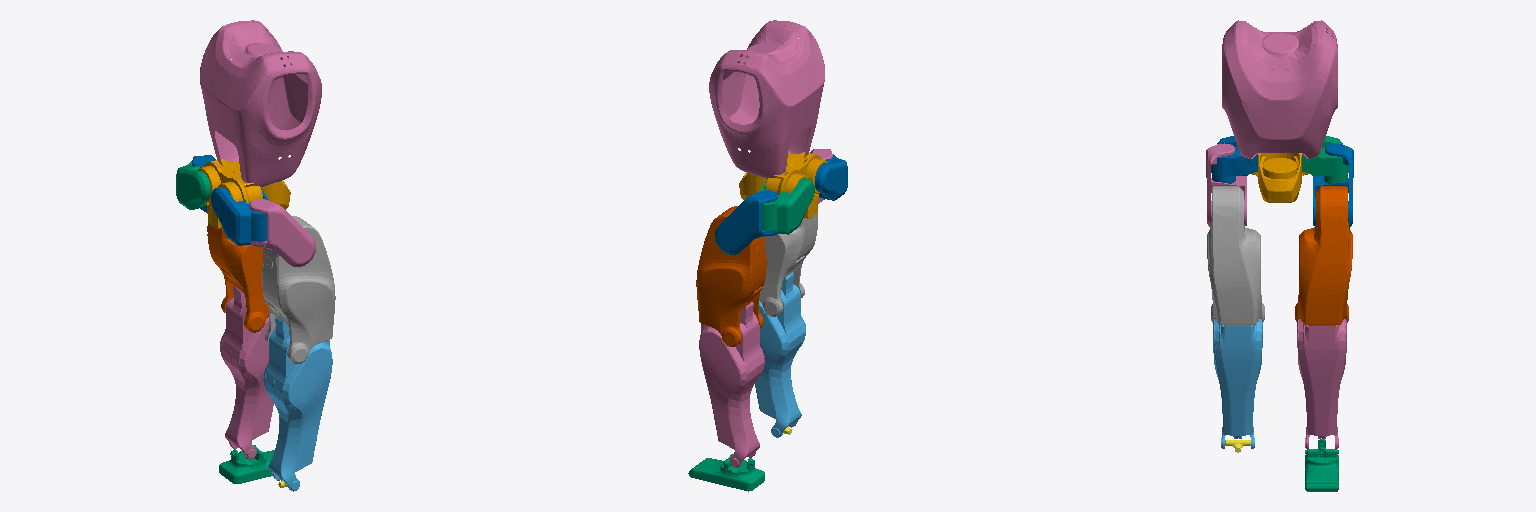
--- Facts derived from the render (not from the file) ---
The picture shows the robot from 3 angles, left to right: view 1: azimuth 30°, elevation 25°; view 2: azimuth 150°, elevation 25°; view 3: azimuth 270°, elevation 25°; orthographic projection.
Model Alexander with 24 links and 23 joints (13 revolute, 10 fixed), rooted at PELVIS_LINK, posed all joints at 0.
Links seen in each view (by area): view 1: TORSO_LINK, RIGHT_SHIN, RIGHT_THIGH, LEFT_SHIN, LEFT_THIGH, RIGHT_HIP_Z_LINK, PELVIS_LINK, RIGHT_HIP_X_LINK, LEFT_FOOT, LEFT_HIP_X_LINK; view 2: TORSO_LINK, LEFT_SHIN, LEFT_THIGH, RIGHT_SHIN, RIGHT_THIGH, LEFT_HIP_Z_LINK, PELVIS_LINK, LEFT_HIP_X_LINK, LEFT_FOOT, RIGHT_HIP_X_LINK; view 3: TORSO_LINK, LEFT_THIGH, RIGHT_THIGH, LEFT_SHIN, RIGHT_SHIN, PELVIS_LINK, LEFT_FOOT, LEFT_HIP_X_LINK, RIGHT_HIP_X_LINK, LEFT_HIP_Z_LINK, RIGHT_HIP_Z_LINK.
Link boxes in pixels (<box>): TORSO_LINK: <box>200,20,321,186</box>; RIGHT_SHIN: <box>263,317,332,491</box>; RIGHT_THIGH: <box>261,216,335,363</box>; LEFT_SHIN: <box>220,285,273,459</box>; LEFT_THIGH: <box>207,223,268,332</box>; RIGHT_HIP_Z_LINK: <box>250,199,315,266</box>; PELVIS_LINK: <box>198,159,290,229</box>; RIGHT_HIP_X_LINK: <box>211,187,269,245</box>; LEFT_FOOT: <box>219,445,274,483</box>; LEFT_HIP_X_LINK: <box>176,161,210,209</box>; TORSO_LINK: <box>709,20,824,178</box>; LEFT_SHIN: <box>699,302,764,467</box>; LEFT_THIGH: <box>696,206,766,346</box>; RIGHT_SHIN: <box>755,272,805,437</box>; RIGHT_THIGH: <box>759,213,817,316</box>; LEFT_HIP_Z_LINK: <box>715,190,777,254</box>; PELVIS_LINK: <box>739,152,827,218</box>; LEFT_HIP_X_LINK: <box>759,178,814,234</box>; LEFT_FOOT: <box>688,454,764,491</box>; RIGHT_HIP_X_LINK: <box>815,154,847,200</box>; TORSO_LINK: <box>1222,20,1337,158</box>; LEFT_THIGH: <box>1295,186,1352,325</box>; RIGHT_THIGH: <box>1207,186,1264,325</box>; LEFT_SHIN: <box>1297,319,1346,448</box>; RIGHT_SHIN: <box>1213,319,1262,448</box>; PELVIS_LINK: <box>1238,148,1321,202</box>; LEFT_FOOT: <box>1305,439,1338,491</box>; LEFT_HIP_X_LINK: <box>1302,136,1348,183</box>; RIGHT_HIP_X_LINK: <box>1211,136,1257,183</box>; LEFT_HIP_Z_LINK: <box>1313,143,1353,228</box>; RIGHT_HIP_Z_LINK: <box>1206,143,1246,228</box>.
Bounding box of the posed robot: 0.3464 × 0.4229 × 1.39 m (x, y, z).
Meshes: 14 distinct files referenced, 12 mesh visuals loaded (12 OBJ); not drawn: 2 (reference not matched to a file when rendering).

URDF robot description (Alexander):
<?xml version = "1.0" ?>
<robot name="Alexander">

    <!-- LEFT LEG JOINTS -->
    <joint name="LEFT_HIP_X" type="revolute">
        <origin rpy="0 0 0" xyz="-0.162	0.0595	-0.015"/>
        <axis xyz="1 0 0"/>
        <parent link="PELVIS_LINK"/>
        <child link="LEFT_HIP_X_LINK"/>
        <limit effort="150" lower="-0.3490658504" upper="0.872664626" velocity="9"/>
        <dynamics damping="0.05" friction="0.0"/>
    </joint>
    <joint name="LEFT_HIP_Z" type="revolute">
        <origin rpy="0 0 0" xyz="0.06	0.1	-0.08"/>
        <axis xyz="0 0 1"/>
        <parent link="LEFT_HIP_X_LINK"/>
        <child link="LEFT_HIP_Z_LINK"/>
        <limit effort="60" lower="-0.3490658504" upper="1.0472" velocity="11"/>
        <dynamics damping="0.05" friction="0.0"/>
    </joint>
    <joint name="LEFT_HIP_Y" type="revolute">
        <origin rpy="0 0 0" xyz="0.1045	-0.0573	-0.0525"/>
        <axis xyz="0 1 0"/>
        <parent link="LEFT_HIP_Z_LINK"/>
        <child link="LEFT_THIGH"/>
        <limit effort="200" lower="-2.61799" upper="0.785398" velocity="8"/>
        <dynamics damping="0.05" friction="0.0"/>
    </joint>
    <joint name="LEFT_KNEE_Y" type="revolute">
        <origin rpy="0 0 0" xyz="0	0.018	-0.32"/>
        <axis xyz="0 1 0"/>
        <parent link="LEFT_THIGH"/>
        <child link="LEFT_SHIN"/>
        <limit effort="200" lower="0" upper="2.445206282" velocity="8"/>
        <dynamics damping="0.05" friction="0.0"/>
    </joint>
    <joint name="LEFT_ANKLE_Y" type="revolute">
        <origin rpy="0 0 0" xyz="0	0	-0.41"/>
        <axis xyz="0 1 0"/>
        <parent link="LEFT_SHIN"/>
        <child link="LEFT_ANKLE_Y_LINK"/>
        <limit effort="180" lower="-1.0472" upper="0.523599" velocity="8"/>
        <dynamics damping="0.05" friction="0.0"/>
    </joint>
    <joint name="LEFT_ANKLE_X" type="revolute">
        <origin rpy="0 0 0" xyz="0	0	-0.012"/>
        <axis xyz="1 0 0"/>
        <parent link="LEFT_ANKLE_Y_LINK"/>
        <child link="LEFT_FOOT"/>
        <limit effort="90" lower="-0.436332" upper="0.436332" velocity="8"/>
        <dynamics damping="0.05" friction="0.0"/>
    </joint>

    <!-- RIGHT LEG JOINTS -->
    <joint name="RIGHT_HIP_X" type="revolute">
        <origin rpy="0 0 0" xyz="-0.162	-0.0595	-0.015"/>
        <axis xyz="1 0 0"/>
        <parent link="PELVIS_LINK"/>
        <child link="RIGHT_HIP_X_LINK"/>
        <limit effort="150" lower="-0.872664626" upper="0.3490658504" velocity="9"/>
        <dynamics damping="0.05" friction="0.0"/>
    </joint>
    <joint name="RIGHT_HIP_Z" type="revolute">
        <origin rpy="0 0 0" xyz="0.06	-0.1	-0.08"/>
        <axis xyz="0 0 1"/>
        <parent link="RIGHT_HIP_X_LINK"/>
        <child link="RIGHT_HIP_Z_LINK"/>
        <limit effort="60" lower="-1.0472" upper="0.3490658504" velocity="11"/>
        <dynamics damping="0.05" friction="0.0"/>
    </joint>
    <joint name="RIGHT_HIP_Y" type="revolute">
        <origin rpy="0 0 0" xyz="0.1045	0.0573	-0.0525"/>
        <axis xyz="0 1 0"/>
        <parent link="RIGHT_HIP_Z_LINK"/>
        <child link="RIGHT_THIGH"/>
        <limit effort="200" lower="-2.61799" upper="0.785398" velocity="8"/>
        <dynamics damping="0.05" friction="0.0"/>
    </joint>
    <joint name="RIGHT_KNEE_Y" type="revolute">
        <origin rpy="0 0 0" xyz="0	-0.018	-0.32"/>
        <axis xyz="0 1 0"/>
        <parent link="RIGHT_THIGH"/>
        <child link="RIGHT_SHIN"/>
        <limit effort="200" lower="0" upper="2.445206282" velocity="8"/>
        <dynamics damping="0.05" friction="0.0"/>
    </joint>
    <joint name="RIGHT_ANKLE_Y" type="revolute">
        <origin rpy="0 0 0" xyz="0	0	-0.41"/>
        <axis xyz="0 1 0"/>
        <parent link="RIGHT_SHIN"/>
        <child link="RIGHT_ANKLE_Y_LINK"/>
        <limit effort="180" lower="-1.0472" upper="0.523599" velocity="8"/>
        <dynamics damping="0.05" friction="0.0"/>
    </joint>
    <joint name="RIGHT_ANKLE_X" type="revolute">
        <origin rpy="0 0 0" xyz="0	0	-0.012"/>
        <axis xyz="1 0 0"/>
        <parent link="RIGHT_ANKLE_Y_LINK"/>
        <child link="RIGHT_FOOT"/>
        <limit effort="90" lower="-0.436332" upper="0.436332" velocity="8"/>
        <dynamics damping="0.05" friction="0.0"/>
    </joint>

    <!-- SPINE JOINTS -->
    <joint name="SPINE_Z" type="revolute">
        <origin rpy="0 0 0" xyz="0.0 0 0.018"/> <!-- check with CAD -->
        <axis xyz="0 0 1"/>
        <parent link="PELVIS_LINK"/>
        <child link="TORSO_LINK"/>
        <limit effort="150" lower="-0.5235987756" upper="0.5235987756" velocity="9.0"/>
        <dynamics damping="0.05" friction="0.0"/>
    </joint>

    <!-- LINKS -->
    <link name="PELVIS_LINK">
        <inertial>
            <mass value="7.700"/> <!-- Mass is measured by Sean and Inertias are scaled by Beomyeong, June 9 -->
            <origin rpy="0 0 0" xyz="-0.08354287 0.00005291 -0.03484828"/>
            <inertia ixx="0.02778797216" ixy="0.000009328336657" ixz="0.0001291459988" iyy="0.04197223079" iyz="0.00003658393716" izz="0.04864293163"/>
        </inertial>
        <visual>
            <geometry>
                <mesh filename="package://alexander_V1_description/meshes/legs/pelvis.obj"/>
            </geometry>
            <origin rpy="0.0 0.0 0.0" xyz="0.0 0.0 0.0"/>
        </visual>
    </link>
    <!-- pelvis_stim_imu -->
    <joint name="PELVIS_STIM_IMU_JOINT" type="fixed">
        <parent link="PELVIS_LINK"/>
        <child link="PELVIS_STIM_IMU_LINK"/>
        <origin xyz="-0.08687724 0.01225028 -0.08051472" rpy="0.0 0.0 1.570796"/>
    </joint>

    <link name="PELVIS_STIM_IMU_LINK">
        <inertial>
            <mass value="0.0"/>
            <origin xyz="0 0 0" rpy="0 0 0"/>
            <inertia ixx="0.0" ixy="0.0" ixz="0.0" iyy="0.0" iyz="0.0" izz="0.0"/>
        </inertial>
    </link>

    <gazebo reference="PELVIS_STIM_IMU_LINK">
        <sensor name="pelvis_stim_imu" type="imu">
            <always_on>1</always_on>
            <update_rate>1000.0</update_rate>
            <imu>
                <noise>
                    <type>gaussian</type>
                    <rate>
                        <mean>0.0</mean>
                        <stddev>2e-4</stddev>
                        <bias_mean>0.0000075</bias_mean>
                        <bias_stddev>0.0000008</bias_stddev>
                    </rate>
                    <accel>
                        <mean>0.0</mean>
                        <stddev>1.7e-2</stddev>
                        <bias_mean>0.1</bias_mean>
                        <bias_stddev>0.001</bias_stddev>
                    </accel>
                </noise>
            </imu>
        </sensor>
    </gazebo>
    <!-- end pelvis imu -->

    <!-- LEFT LEG LINKS -->
    <link name="LEFT_HIP_X_LINK">
        <inertial>
            <mass value="1.933"/> <!-- Mass is measured by Sean and Inertias are scaled by Beomyeong, June 9 -->
            <origin rpy="0 0 0" xyz="0.04350911	0.08708606 -0.03525761"/>
            <inertia ixx="0.003878412843" ixy="-0.0004864153567" ixz="0.000108888806" iyy="0.004286297831" iyz="0.0003994221282" izz="0.004589226755"/>
        </inertial>
        <visual>
            <geometry>
                <mesh filename="package://alexander_V1_description/meshes/legs/left_hip_roll.obj"/>
            </geometry>
            <origin rpy="0.0 0.0 0.0" xyz="0.0 0.0 0.0"/>
        </visual>
    </link>

    <!-- LeftHipRollIMU-->
	<link name="LEFT_HIP_X_IMU_LINK">
		<inertial>
			<mass value="0"/>
			<origin rpy="0 0 0" xyz="0 0 0"/>
			<inertia ixx="0.0" ixy="0.0" ixz="0.0" iyy="0.0" iyz="0.0" izz="0.0"/>
		</inertial>
	</link>
	<joint name="LEFT_HIP_X_IMU_JOINT" type="fixed">
		<origin rpy="-1.570796 0 1.570796" xyz="-0.01922309 0.10145013 -0.01488788"/>
		<axis xyz="0 0 1"/>
		<parent link="LEFT_HIP_X_LINK"/>
		<child link="LEFT_HIP_X_IMU_LINK"/>
	</joint>
	<gazebo reference="LEFT_HIP_X_IMU_LINK">
		<sensor name="left_hip_x_imu" type="imu">
			<always_on>true</always_on>
			<imu>
				<noise>
					<type>gaussian</type>
					<rate>
						<mean>0</mean>
						<stddev>0.0002</stddev>
						<bias_mean>7.5e-06</bias_mean>
						<bias_stddev>8e-07</bias_stddev>
					</rate>
					<accel>
						<mean>0</mean>
						<stddev>0.017</stddev>
						<bias_mean>0.1</bias_mean>
						<bias_stddev>0.001</bias_stddev>
					</accel>
				</noise>
			</imu>
		</sensor>
	</gazebo>


    <link name="LEFT_HIP_Z_LINK">
        <inertial>
            <mass value="0.777"/> <!-- Mass is measured by Sean and Inertias are scaled by Beomyeong, June 9 -->
            <origin rpy="0 0 0" xyz="0.04549595	-0.00525571	-0.00937454"/>
            <inertia ixx="0.003193596704" ixy="0.00005838456884" ixz="0.0008103460444" iyy="0.003470518726" iyz="0.0004769799088" izz="0.003149418679"/>
        </inertial>
        <visual>
            <geometry>
                <mesh filename="package://alexander_V1_description/meshes/legs/left_hip_yaw.obj"/>
            </geometry>
            <origin rpy="0.0 0.0 0.0" xyz="0 0 0"/>
        </visual>
    </link>
    <link name="LEFT_THIGH">
        <inertial>
            <mass value="8.200"/> <!-- Mass is measured by Sean and Inertias are scaled by Beomyeong, June 9 --> <!-- CAD Mass 6.31087157 (Hacked April 1 2025 to match IRL Scale of whole robot) -->
            <origin rpy="0 0 0" xyz="0.01417302	0.03268781	-0.10548314"/>
            <inertia ixx="0.09801939303" ixy="0.0004076934194" ixz="0.009696198452" iyy="0.1029817685" iyz="-0.004604273548" izz="0.02966682761"/>
        </inertial>
        <visual>
            <geometry>
                <mesh filename="package://alexander_V1_description/meshes/legs/left_thigh.obj"/>
            </geometry>
            <origin rpy="0.0 0.0 0.0" xyz="0 0 0"/>
        </visual>
    </link>
    <link name="LEFT_SHIN">
        <inertial>
            <mass value="7.400"/><!-- Mass is measured by Sean and Inertias are scaled by Beomyeong, June 9, CAD Mass 6.31087157 (Hacked April 1 2025 to match IRL Scale of whole robot) -->
            <origin rpy="0 0 0" xyz="0.03807965	-0.00108105	-0.12410027"/>
            <inertia ixx="0.1187114458" ixy="-0.0007360443636" ixz="-0.008531957818" iyy="0.123287552" iyz="0.00003651563636" izz="0.021118268"/>
        </inertial>
        <visual>
            <geometry>
                <mesh filename="package://alexander_V1_description/meshes/legs/left_shin.obj"/>
            </geometry>
            <origin rpy="0.0 0.0 0.0" xyz="0 0 0"/>
        </visual>
    </link>

    <!-- LeftThighIMU-->
	<link name="LEFT_THIGH_IMU_LINK">
		<inertial>
			<mass value="0"/>
			<origin rpy="0 0 0" xyz="0 0 0"/>
			<inertia ixx="0.0" ixy="0.0" ixz="0.0" iyy="0.0" iyz="0.0" izz="0.0"/>
		</inertial>
	</link>
	<joint name="LEFT_THIGH_IMU_JOINT" type="fixed">
		<origin rpy="1.6947717585 0 1.570796" xyz="0.10004 0.03746 -0.21194"/>
		<axis xyz="0 0 1"/>
		<parent link="LEFT_THIGH"/>
		<child link="LEFT_THIGH_IMU_LINK"/>
	</joint>
	<gazebo reference="LEFT_THIGH_IMU_LINK">
		<sensor name="left_thigh_imu" type="imu">
			<always_on>true</always_on>
			<imu>
				<noise>
					<type>gaussian</type>
					<rate>
						<mean>0</mean>
						<stddev>0.0002</stddev>
						<bias_mean>7.5e-06</bias_mean>
						<bias_stddev>8e-07</bias_stddev>
					</rate>
					<accel>
						<mean>0</mean>
						<stddev>0.017</stddev>
						<bias_mean>0.1</bias_mean>
						<bias_stddev>0.001</bias_stddev>
					</accel>
				</noise>
			</imu>
		</sensor>
	</gazebo>

    <!-- LeftShinIMU-->
	<link name="LEFT_SHIN_IMU_LINK">
		<inertial>
			<mass value="0"/>
			<origin rpy="0 0 0" xyz="0 0 0"/>
			<inertia ixx="0.0" ixy="0.0" ixz="0.0" iyy="0.0" iyz="0.0" izz="0.0"/>
		</inertial>
	</link>
	<joint name="LEFT_SHIN_IMU_JOINT" type="fixed">
		<origin rpy="1.403695170631842 0 -1.570796" xyz="0.05655120 0.00084826 -0.15664831"/>
		<axis xyz="0 0 1"/>
		<parent link="LEFT_SHIN"/>
		<child link="LEFT_SHIN_IMU_LINK"/>
	</joint>
	<gazebo reference="LEFT_SHIN_IMU_LINK">
		<sensor name="left_shin_imu" type="imu">
			<always_on>true</always_on>
			<imu>
				<noise>
					<type>gaussian</type>
					<rate>
						<mean>0</mean>
						<stddev>0.0002</stddev>
						<bias_mean>7.5e-06</bias_mean>
						<bias_stddev>8e-07</bias_stddev>
					</rate>
					<accel>
						<mean>0</mean>
						<stddev>0.017</stddev>
						<bias_mean>0.1</bias_mean>
						<bias_stddev>0.001</bias_stddev>
					</accel>
				</noise>
			</imu>
		</sensor>
	</gazebo>


    <link name="LEFT_ANKLE_Y_LINK">
        <inertial>
            <mass value="0.04972436486"/>
            <origin rpy="0 0 0" xyz="2.94E-07	2.22E-07	-0.00462997"/>
            <inertia ixx="0.00001707859874" ixy="2.09E-10" ixz="-1.24E-10" iyy="0.0000070364221" iyz="-1.99E-11" izz="0.00001824148082"/>
        </inertial>
        <visual>
            <geometry>
                <mesh filename="package://alexander_V1_description/meshes/legs/left_ankle.obj"/>
            </geometry>
            <origin rpy="0.0 0.0 0.0" xyz="0 0 0"/>
        </visual>
    </link>
    <link name="LEFT_FOOT">
        <inertial>
            <mass value="1.264275635"/> <!-- Mass is measured by Sean and Inertias are scaled by Beomyeong, June 9 -->
            <origin rpy="0 0 0" xyz="0.03793372	-0.00000219	-0.0443663"/>
            <inertia ixx="0.00129422863" ixy="0.00001041666409" ixz="0.0003571624786" iyy="0.003796967682" iyz="-0.00000679990371" izz="0.004004069097"/>
        </inertial>
        <visual>
            <geometry>
                <mesh filename="package://alexander_V1_description/meshes/legs/left_foot.obj"/>
            </geometry>
            <origin rpy="0.0 0.0 0.0" xyz="0 0 0"/>
        </visual>
    </link>

    <!-- LeftFootIMU-->
	<link name="LEFT_FOOT_IMU_LINK">
		<inertial>
			<mass value="0"/>
			<origin rpy="0 0 0" xyz="0 0 0"/>
			<inertia ixx="0.0" ixy="0.0" ixz="0.0" iyy="0.0" iyz="0.0" izz="0.0"/>
		</inertial>
	</link>
	<joint name="LEFT_FOOT_IMU_JOINT" type="fixed">
		<origin rpy="0 0 1.570796" xyz="-0.03575526 0.01180178 -0.04979705"/>
		<axis xyz="0 0 1"/>
		<parent link="LEFT_FOOT"/>
		<child link="LEFT_FOOT_IMU_LINK"/>
	</joint>
	<gazebo reference="LEFT_FOOT_IMU_LINK">
		<sensor name="left_foot_imu" type="imu">
			<always_on>true</always_on>
			<imu>
				<noise>
					<type>gaussian</type>
					<rate>
						<mean>0</mean>
						<stddev>0.0002</stddev>
						<bias_mean>7.5e-06</bias_mean>
						<bias_stddev>8e-07</bias_stddev>
					</rate>
					<accel>
						<mean>0</mean>
						<stddev>0.017</stddev>
						<bias_mean>0.1</bias_mean>
						<bias_stddev>0.001</bias_stddev>
					</accel>
				</noise>
			</imu>
		</sensor>
	</gazebo>


    <!-- RIGHT LEG LINKS -->
    <link name="RIGHT_HIP_X_LINK">
        <inertial>
            <mass value="1.933"/> <!-- Mass is measured by Sean and Inertias are scaled by Beomyeong, June 9 -->
            <origin rpy="0 0 0" xyz="0.04351957	-0.08688935	-0.03525357"/>
            <inertia ixx="0.003879453534" ixy="0.0005061469865" ixz="0.0001081756018" iyy="0.004284419245" iyz="-0.0003931176704" izz="0.004587390581"/>
        </inertial>
        <visual>
            <geometry>
                <mesh filename="package://alexander_V1_description/meshes/legs/right_hip_roll.obj"/>
            </geometry>
            <origin rpy="0.0 0.0 0.0" xyz="0.0 0.0 0.0"/>
        </visual>
    </link>

    <!-- RightHipRollIMU-->
	<link name="RIGHT_HIP_X_IMU_LINK">
		<inertial>
			<mass value="0"/>
			<origin rpy="0 0 0" xyz="0 0 0"/>
			<inertia ixx="0.0" ixy="0.0" ixz="0.0" iyy="0.0" iyz="0.0" izz="0.0"/>
		</inertial>
	</link>
	<joint name="RIGHT_HIP_ROLL_IMU_JOINT" type="fixed">
		<origin rpy="-1.570796 0 1.570796" xyz="-0.01922309 -0.07694987 -0.01488788"/>
		<axis xyz="0 0 1"/>
		<parent link="RIGHT_HIP_X_LINK"/>
		<child link="RIGHT_HIP_X_IMU_LINK"/>
	</joint>
	<gazebo reference="RIGHT_HIP_X_IMU_LINK">
		<sensor name="right_hip_x_imu" type="imu">
			<always_on>true</always_on>
			<imu>
				<noise>
					<type>gaussian</type>
					<rate>
						<mean>0</mean>
						<stddev>0.0002</stddev>
						<bias_mean>7.5e-06</bias_mean>
						<bias_stddev>8e-07</bias_stddev>
					</rate>
					<accel>
						<mean>0</mean>
						<stddev>0.017</stddev>
						<bias_mean>0.1</bias_mean>
						<bias_stddev>0.001</bias_stddev>
					</accel>
				</noise>
			</imu>
		</sensor>
	</gazebo>

    <link name="RIGHT_HIP_Z_LINK">
        <inertial>
            <mass value="0.777"/> <!-- Mass is measured by Sean and Inertias are scaled by Beomyeong, June 9 -->
            <origin rpy="0 0 0" xyz="0.04549274	0.00525784	-0.00937505"/>
            <inertia ixx="0.003193609391" ixy="-0.00005796252393" ixz="0.0008102386672" iyy="0.003470371645" iyz="-0.0004772331589" izz="0.003149209997"/>
        </inertial>
        <visual>
            <geometry>
                <mesh filename="package://alexander_V1_description/meshes/legs/right_hip_yaw.obj"/>
            </geometry>
            <origin rpy="0.0 0.0 0.0" xyz="0 0 0"/>
        </visual>
    </link>
    <link name="RIGHT_THIGH">
        <inertial>
            <mass value="8.200"/><!--  Mass is measured by Sean and Inertias are scaled by Beomyeong, June 9,  CAD Mass 6.31087157 (Hacked April 1 2025 to match IRL Scale of whole robot) -->
            <origin rpy="0 0 0" xyz="0.01411846	-0.03282392	-0.10542795"/>
            <inertia ixx="0.09811603665" ixy="-0.0002823868387" ixz="0.009748403355" iyy="0.1030417396" iyz="0.004470163871" izz="0.02964871355"/>
        </inertial>
        <visual>
            <geometry>
                <mesh filename="package://alexander_V1_description/meshes/legs/right_thigh.obj"/>
            </geometry>
            <origin rpy="0.0 0.0 0.0" xyz="0 0 0"/>
        </visual>
    </link>

    <!-- RightThighIMU-->
	<link name="RIGHT_THIGH_IMU_LINK">
		<inertial>
			<mass value="0"/>
			<origin rpy="0 0 0" xyz="0 0 0"/>
			<inertia ixx="0.0" ixy="0.0" ixz="0.0" iyy="0.0" iyz="0.0" izz="0.0"/>
		</inertial>
	</link>
	<joint name="RIGHT_THIGH_IMU_JOINT" type="fixed">
		<origin rpy="1.6947717585 0 1.570796" xyz="0.10003618 -0.033541826 -0.21194191"/>
		<axis xyz="0 0 1"/>
		<parent link="RIGHT_THIGH"/>
		<child link="RIGHT_THIGH_IMU_LINK"/>
	</joint>
	<gazebo reference="RIGHT_THIGH_IMU_LINK">
		<sensor name="right_thigh_imu" type="imu">
			<always_on>true</always_on>
			<imu>
				<noise>
					<type>gaussian</type>
					<rate>
						<mean>0</mean>
						<stddev>0.0002</stddev>
						<bias_mean>7.5e-06</bias_mean>
						<bias_stddev>8e-07</bias_stddev>
					</rate>
					<accel>
						<mean>0</mean>
						<stddev>0.017</stddev>
						<bias_mean>0.1</bias_mean>
						<bias_stddev>0.001</bias_stddev>
					</accel>
				</noise>
			</imu>
		</sensor>
	</gazebo>

    <link name="RIGHT_SHIN">
        <inertial>
            <mass value="7.400"/> <!-- Mass is measured by Sean and Inertias are scaled by Beomyeong, June 9 --><!-- CAD Mass 6.31087157 (Hacked April 1 2025 to match IRL Scale of whole robot) -->
            <origin rpy="0 0 0" xyz="0.03807648	0.00113375	-0.12408765"/>
            <inertia ixx="0.1171311422" ixy="0.000770636" ixz="-0.009077162909" iyy="0.1214017091" iyz="0.0003811941818" izz="0.02090879418"/>
        </inertial>
        <visual>
            <geometry>
                <mesh filename="package://alexander_V1_description/meshes/legs/right_shin.obj"/>
            </geometry>
            <origin rpy="0.0 0.0 0.0" xyz="0 0 0"/>
        </visual>
    </link>

    <!-- RightShinIMU-->
	<link name="RIGHT_SHIN_IMU_LINK">
		<inertial>
			<mass value="0"/>
			<origin rpy="0 0 0" xyz="0 0 0"/>
			<inertia ixx="0.0" ixy="0.0" ixz="0.0" iyy="0.0" iyz="0.0" izz="0.0"/>
		</inertial>
	</link>
	<joint name="RIGHT_SHIN_IMU_JOINT" type="fixed">
		<origin rpy="1.403695170631842 0 -1.570796" xyz="0.05673025 -0.00875818 -0.15674961"/>
		<axis xyz="0 0 1"/>
		<parent link="RIGHT_SHIN"/>
		<child link="RIGHT_SHIN_IMU_LINK"/>
	</joint>
	<gazebo reference="RIGHT_SHIN_IMU_LINK">
		<sensor name="right_shin_imu" type="imu">
			<always_on>true</always_on>
			<imu>
				<noise>
					<type>gaussian</type>
					<rate>
						<mean>0</mean>
						<stddev>0.0002</stddev>
						<bias_mean>7.5e-06</bias_mean>
						<bias_stddev>8e-07</bias_stddev>
					</rate>
					<accel>
						<mean>0</mean>
						<stddev>0.017</stddev>
						<bias_mean>0.1</bias_mean>
						<bias_stddev>0.001</bias_stddev>
					</accel>
				</noise>
			</imu>
		</sensor>
	</gazebo>


    <link name="RIGHT_ANKLE_Y_LINK">
        <inertial>
            <mass value="0.04972436486"/> 
            <origin rpy="0 0 0" xyz="2.94E-07	2.22E-07	-0.00462997"/>
            <inertia ixx="0.00001707859874" ixy="2.09E-10" ixz="-1.24E-10" iyy="0.0000070364221" iyz="-1.99E-11" izz="0.00001824148082"/>
        </inertial>
        <visual>
            <geometry>
                <mesh filename="package://alexander_V1_description/meshes/legs/right_ankle.obj"/>
            </geometry>
            <origin rpy="0.0 0.0 0.0" xyz="0 0 0"/>
        </visual>
    </link>
    <link name="RIGHT_FOOT">
        <inertial>
            <mass value="1.264275635"/> <!-- Mass is measured by Sean and Inertias are scaled by Beomyeong, June 9 -->
            <origin rpy="0 0 0" xyz="0.03793372	-0.00000219	-0.0443663"/>
            <inertia ixx="0.00129422863" ixy="0.00001041666409" ixz="0.0003571624786" iyy="0.003796967682" iyz="-0.00000679990371" izz="0.004004069097"/>
        </inertial>
        <visual>
            <geometry>
                <mesh filename="package://alexander_V1_description/meshes/legs/right_foot.obj"/>
            </geometry>
            <origin rpy="0.0 0.0 0.0" xyz="0 0 0"/>
        </visual>
    </link>

    <!-- RightFootIMU-->
	<link name="RIGHT_FOOT_IMU_LINK">
		<inertial>
			<mass value="0"/>
			<origin rpy="0 0 0" xyz="0 0 0"/>
			<inertia ixx="0.0" ixy="0.0" ixz="0.0" iyy="0.0" iyz="0.0" izz="0.0"/>
		</inertial>
	</link>
	<joint name="RIGHT_FOOT_IMU_JOINT" type="fixed">
		<origin rpy="0 0 1.570796" xyz="-0.03575526 0.01180178 -0.04979705"/>
		<axis xyz="0 0 1"/>
		<parent link="RIGHT_FOOT"/>
		<child link="RIGHT_FOOT_IMU_LINK"/>
	</joint>
	<gazebo reference="RIGHT_FOOT_IMU_LINK">
		<sensor name="right_foot_imu" type="imu">
			<always_on>true</always_on>
			<imu>
				<noise>
					<type>gaussian</type>
					<rate>
						<mean>0</mean>
						<stddev>0.0002</stddev>
						<bias_mean>7.5e-06</bias_mean>
						<bias_stddev>8e-07</bias_stddev>
					</rate>
					<accel>
						<mean>0</mean>
						<stddev>0.017</stddev>
						<bias_mean>0.1</bias_mean>
						<bias_stddev>0.001</bias_stddev>
					</accel>
				</noise>
			</imu>
		</sensor>
	</gazebo>


    <!-- SPINE LINKS -->
    <link name="TORSO_LINK">
        <inertial>
            <mass value="2.13269743"/> <!-- This probably needs to be updated  -->
            <origin rpy="0 0 0" xyz="-0.034 0.0 0.297"/>
            <inertia ixx="0.03902511932" ixy="4.89E-06" ixz="0.004054557852" iyy="0.03446374174" iyz="73.67E-06" izz="0.01672505114"/>
        </inertial>
        <visual>
            <geometry>
                <mesh filename="package://alexander_V1_description/meshes/torso.obj"/>
            </geometry>
            <origin rpy="0.0 0.0 0.0" xyz="0.0 0.0 0.0"/>
        </visual>
    </link>

     <!-- TORSO IMU --> <!-- TODO (CD): This is a placeholder taken from Nadia to give Alexander a non-empty sensor information -->
        <joint name="TORSO_IMU_JOINT" type="fixed">
            <parent link="TORSO_LINK"/>
            <child link="TORSO_IMU_LINK"/>
            <origin xyz="0.04529 -0.02427 0.33757" rpy="3.141592 0 0"/>
        </joint>
        <link name="TORSO_IMU_LINK">
            <inertial>
                <mass value="0.0" />
                <origin xyz="0 0 0" rpy="0 0 0" />
                <inertia ixx="0.0" ixy="0.0" ixz="0.0" iyy="0.0" iyz="0.0" izz="0.0" />
            </inertial>
        </link>
        <gazebo reference="TORSO_IMU_LINK">
            <sensor name="torso_imu" type="imu">
                <always_on>1</always_on>
                <update_rate>1000.0</update_rate>
                <imu>
                    <noise>
                        <type>gaussian</type>
                        <rate>
                            <mean>0.0</mean>
                            <stddev>2e-4</stddev>
                            <bias_mean>0.0000075</bias_mean>
                            <bias_stddev>0.0000008</bias_stddev>
                        </rate>
                        <accel>
                            <mean>0.0</mean>
                            <stddev>1.7e-2</stddev>
                            <bias_mean>0.1</bias_mean>
                            <bias_stddev>0.001</bias_stddev>
                        </accel>
                    </noise>
                </imu>
            </sensor>
        </gazebo>
        <!-- END TORSO IMU -->
</robot>
